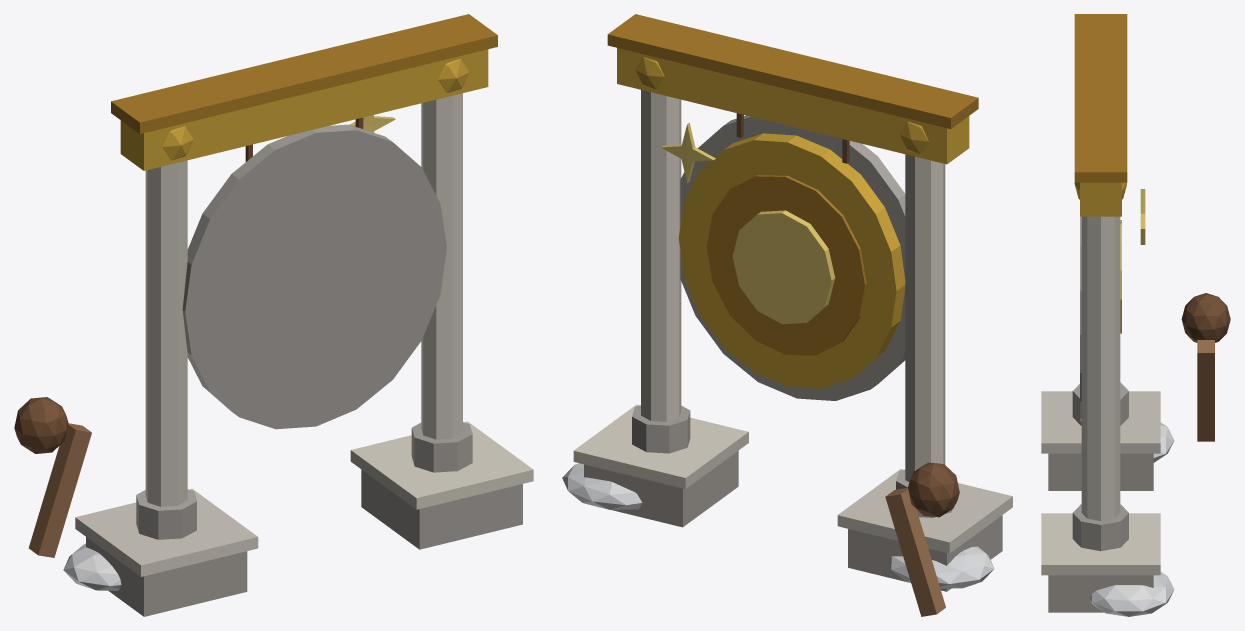
The model's file is Decor_CloudTemple_DawnGong.fbx.
3 views of the same model, side by side, from view 1: azimuth 30°, elevation 25°; view 2: azimuth 150°, elevation 25°; view 3: azimuth 270°, elevation 25° (orthographic). The views are drawn at different scales.
Parts seen in each view (by area): view 1: DawnGong_Body; view 2: DawnGong_Body; view 3: DawnGong_Body.
Part boxes in pixels (left/top/right/bottom): DawnGong_Body: left=14, top=14, right=533, bottom=616; DawnGong_Body: left=562, top=14, right=1012, bottom=616; DawnGong_Body: left=1041, top=14, right=1230, bottom=616.
Bounding box in the file's own units: 11.68 × 12.1 × 4.75.
